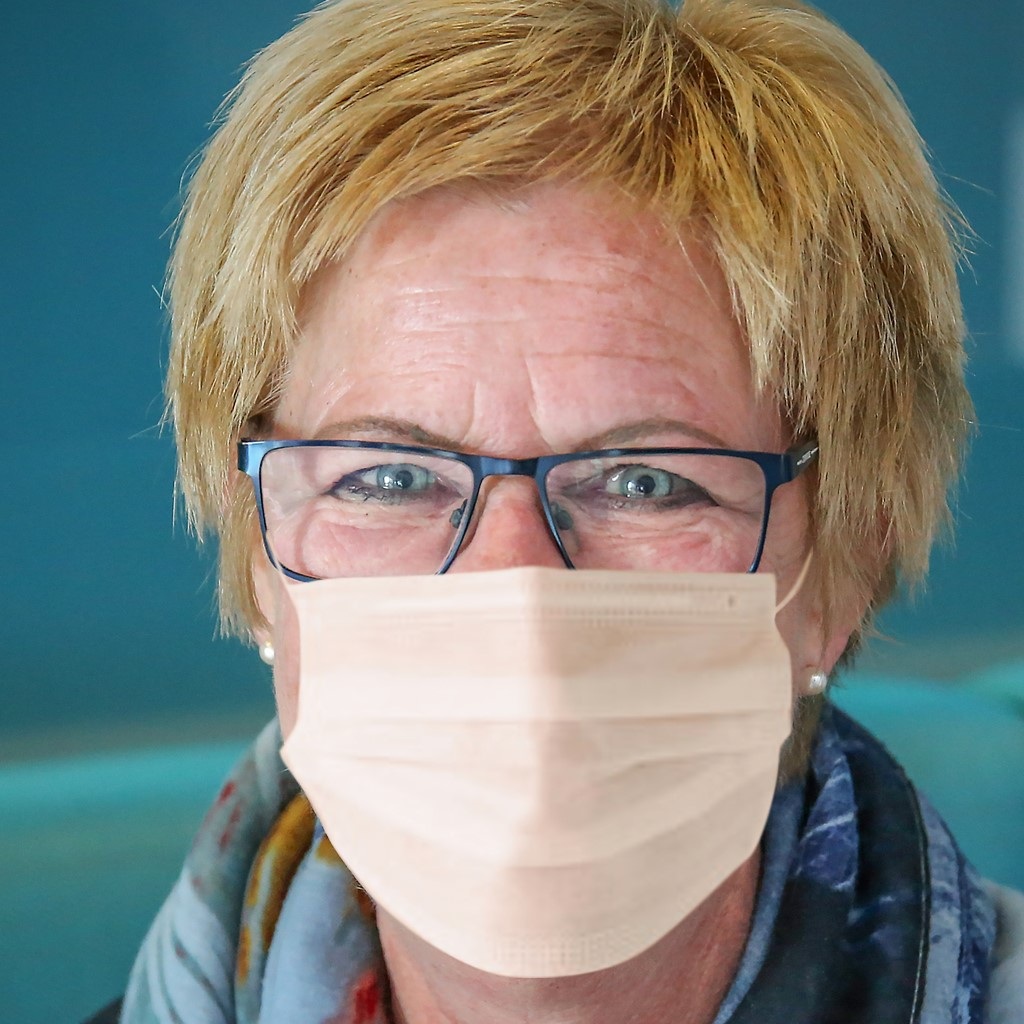con_mascara: (210, 101, 879, 956)
